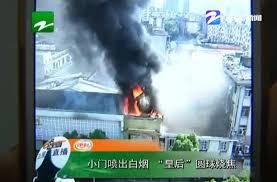fire: (122, 85, 156, 115)
